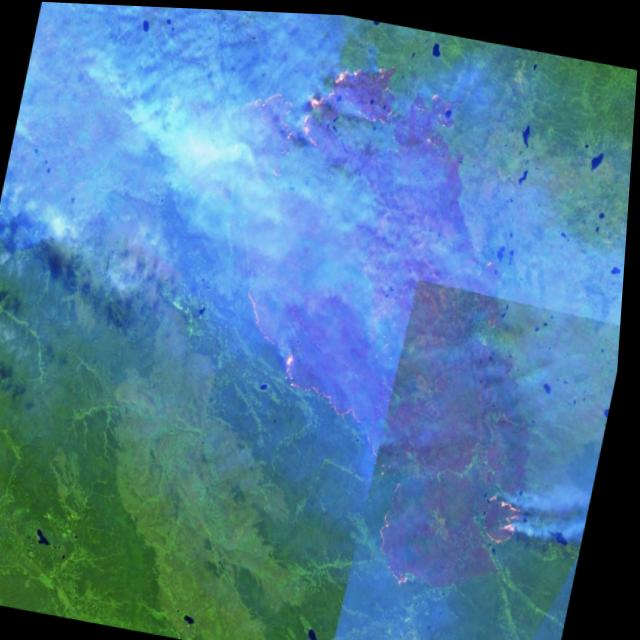fire: (220, 267, 398, 423), (372, 70, 466, 169), (372, 468, 439, 596), (293, 40, 358, 170), (225, 78, 303, 179), (478, 475, 536, 547)
